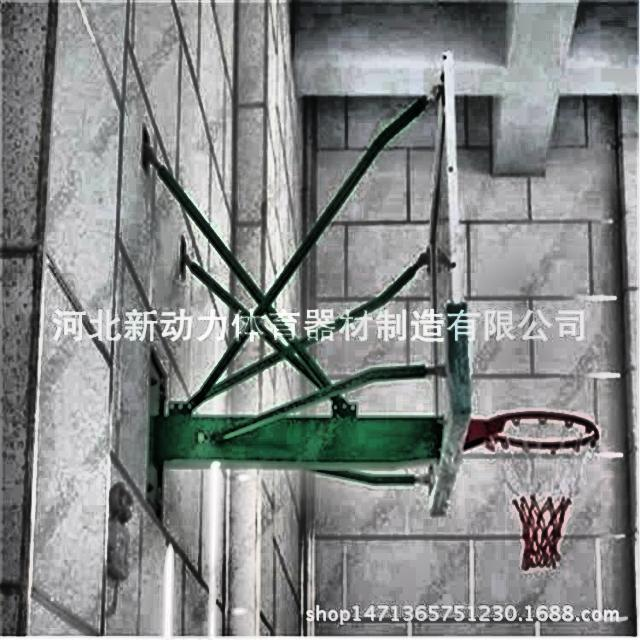rim: (496, 410, 602, 571)
